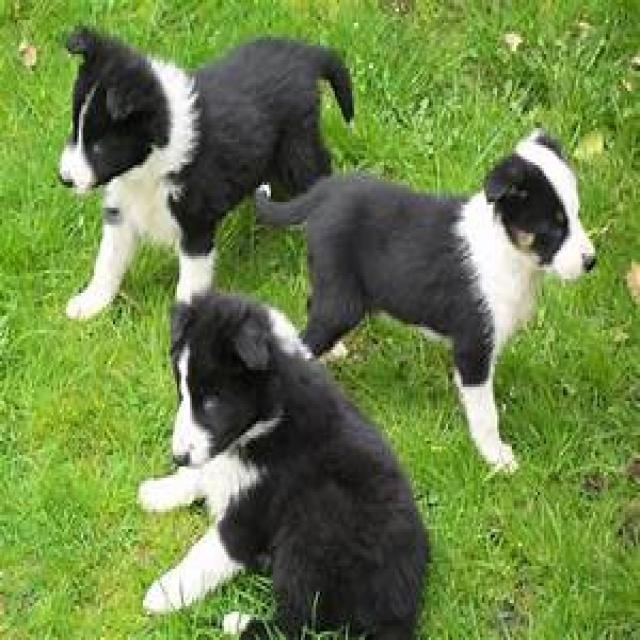dog: (252, 131, 597, 475), (139, 293, 431, 640), (58, 26, 356, 324)
